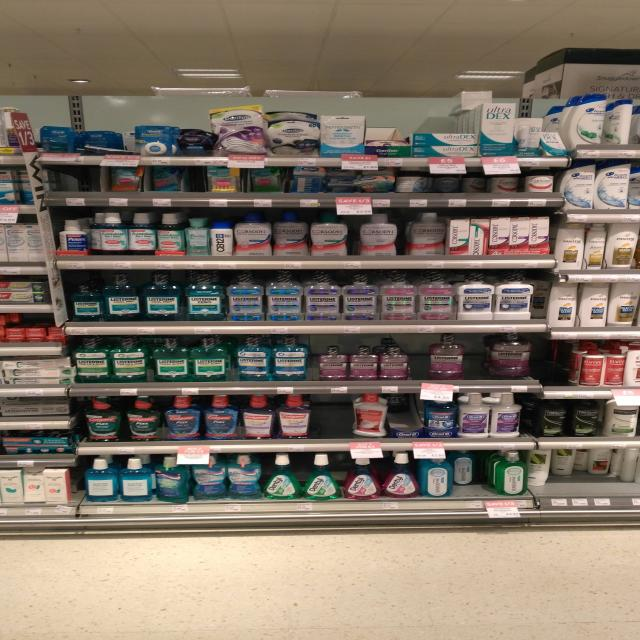void: (50, 164, 100, 207), (541, 340, 577, 399), (316, 394, 349, 452)
